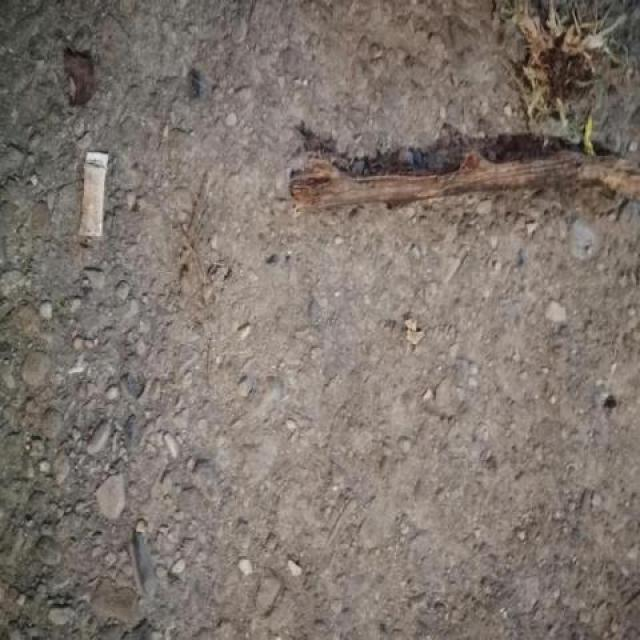non-organic waste: (75, 145, 113, 244)
